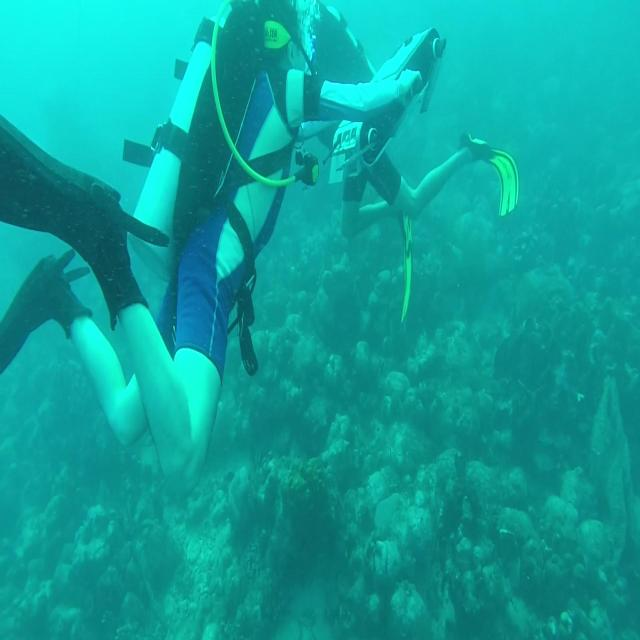human: (1, 0, 307, 511), (274, 2, 524, 324)
